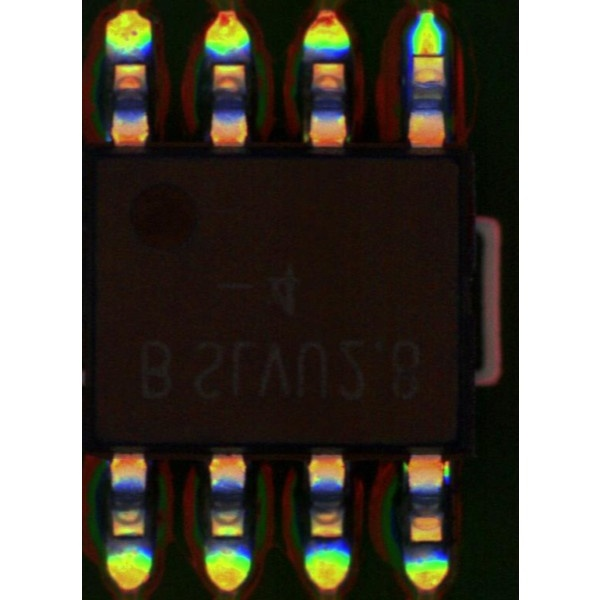Bad_podu: (413, 48, 441, 64)
